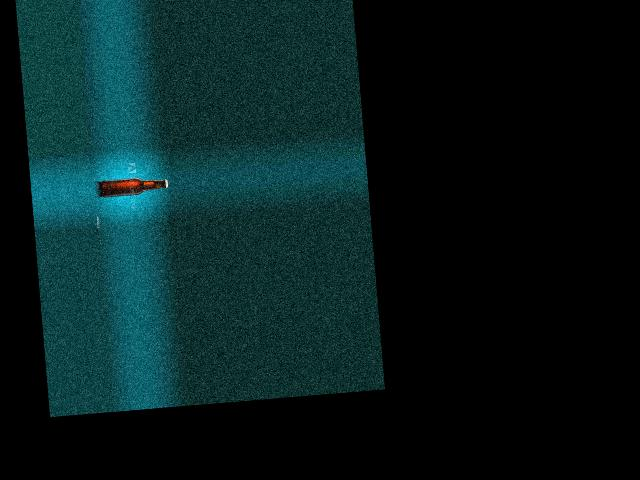beer: (99, 175, 168, 198)
